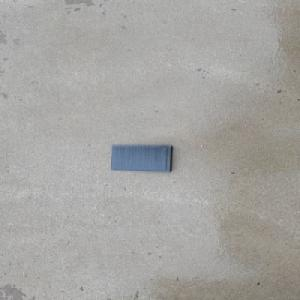PlasticPart: (109, 144, 174, 172)
